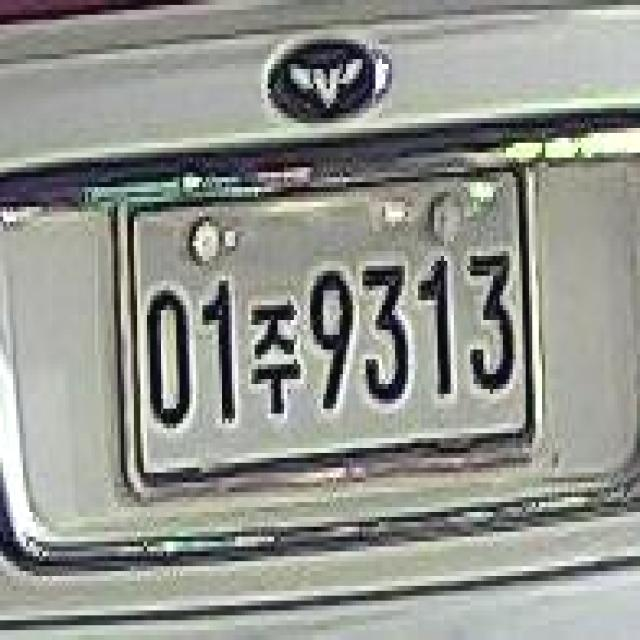illegal_plate: (117, 153, 540, 492)
